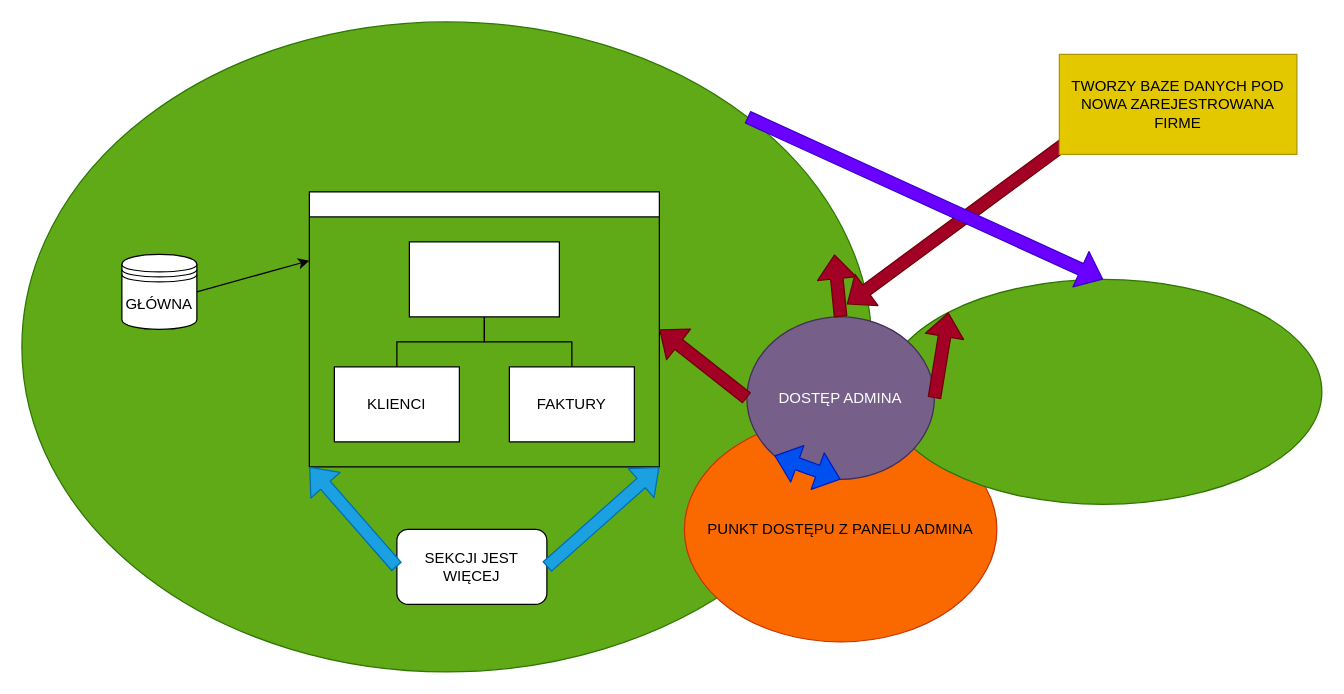
Some shapes in this 1344 by 694 pixel diagram are drawn without their labels. Here are the shapes that lost their labels. From the top down, the box of each, then its label:
(408, 241, 559, 317): FIRMA
(308, 191, 659, 467): BAZA
(883, 278, 1322, 504): KOLEJNE DODAWANE FIRMY
